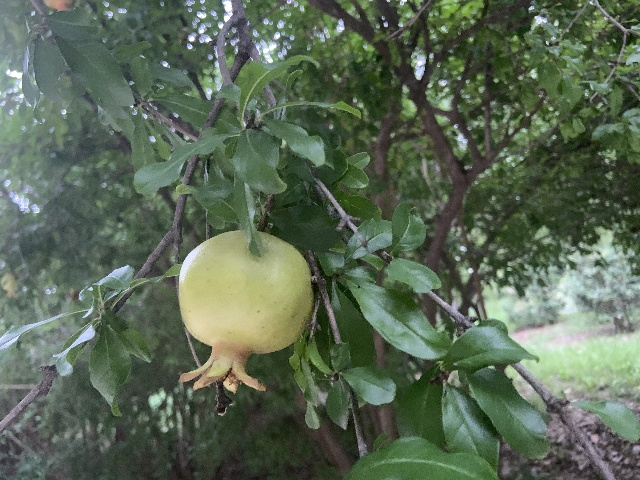mid-growth: (177, 229, 314, 394)
